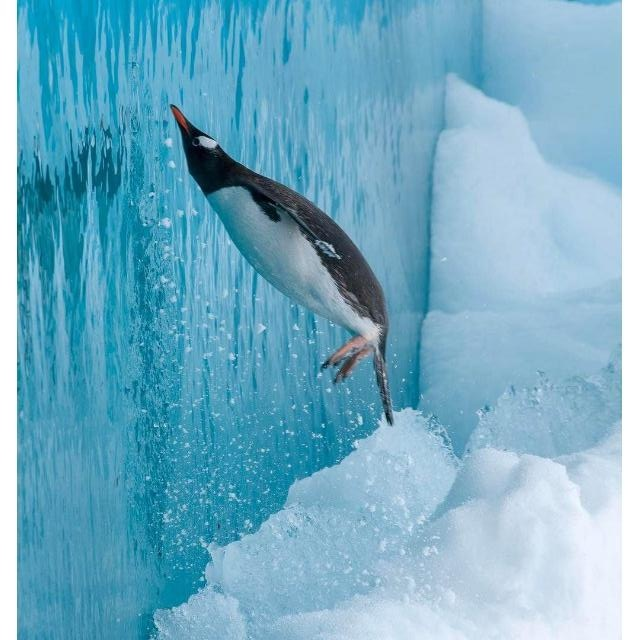penguin: (170, 104, 393, 426)
